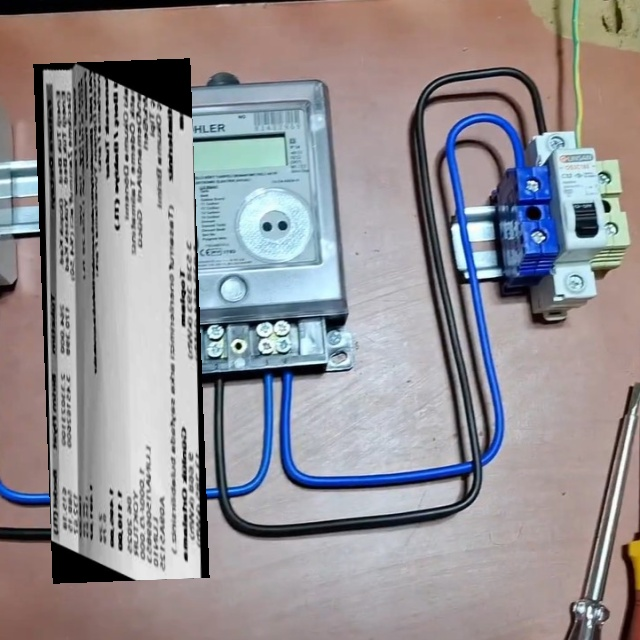electricity-bill: (32, 57, 209, 583)
